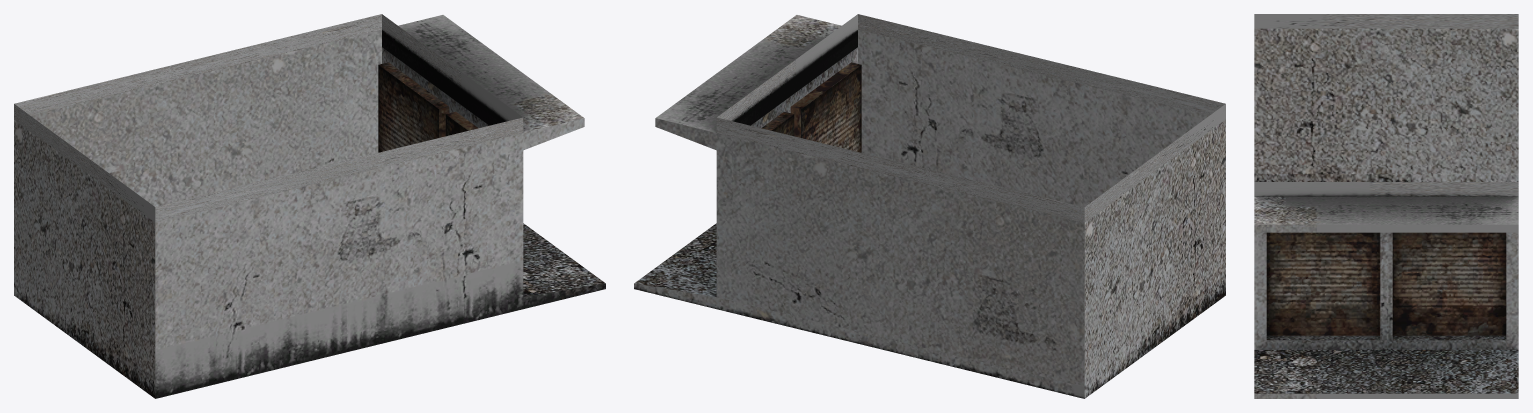
The model's file is garage.FBX.
3 views of the same model, side by side, from view 1: azimuth 30°, elevation 25°; view 2: azimuth 150°, elevation 25°; view 3: azimuth 270°, elevation 25° (orthographic). The views are drawn at different scales.
Parts seen in each view (by area): view 1: GAR_LOD0; view 2: GAR_LOD0; view 3: GAR_LOD0.
Boxes of the visible parts, x1,y1,x2,y2 form: GAR_LOD0: (14, 14, 605, 398); GAR_LOD0: (634, 14, 1225, 398); GAR_LOD0: (1254, 14, 1518, 398).
Bounding box in the file's own units: 46.06 × 18.74 × 25.03.
Materials: 1 (1 with a texture image).
